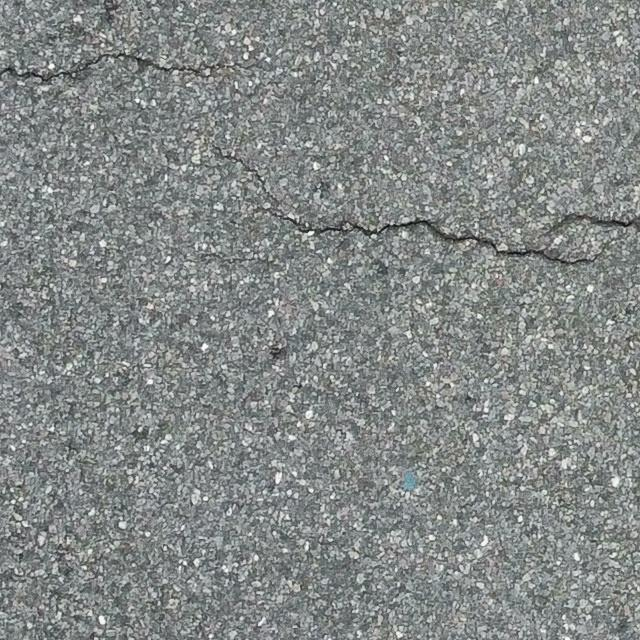TransverseCrack: (211, 147, 640, 265), (1, 51, 251, 85)
